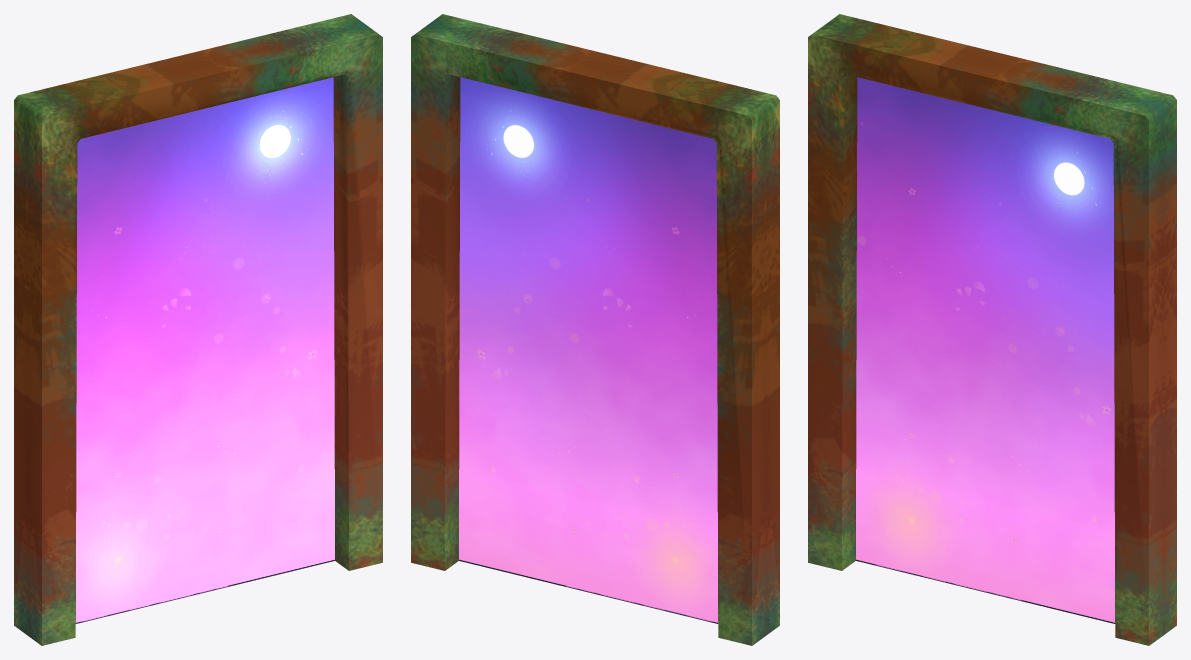
Rendered from doorway_darkbrown.glb.
The picture shows the model from 3 angles, left to right: view 1: azimuth 30°, elevation 25°; view 2: azimuth 150°, elevation 25°; view 3: azimuth 330°, elevation 25°; orthographic projection.
Parts seen in each view (by area): view 1: Portal_Rect-PurpleNight, Portal_Doorway-DarkBrown; view 2: Portal_Rect-PurpleNight, Portal_Doorway-DarkBrown; view 3: Portal_Rect-PurpleNight, Portal_Doorway-DarkBrown.
Part boxes in pixels (left/top/right/bottom): Portal_Rect-PurpleNight: left=75, top=77, right=334, bottom=623; Portal_Doorway-DarkBrown: left=14, top=14, right=382, bottom=645; Portal_Rect-PurpleNight: left=459, top=77, right=718, bottom=623; Portal_Doorway-DarkBrown: left=411, top=14, right=779, bottom=645; Portal_Rect-PurpleNight: left=856, top=77, right=1115, bottom=623; Portal_Doorway-DarkBrown: left=808, top=14, right=1176, bottom=645.
Bounding box in the file's own units: 2.7 × 4 × 0.3807.
Materials: 2 (2 with a texture image).
